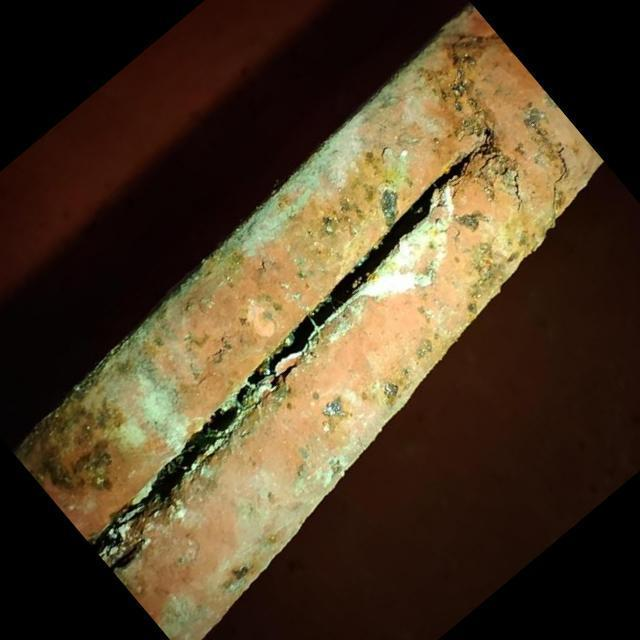defect: (88, 153, 477, 560), (550, 142, 570, 210), (509, 168, 523, 215)
